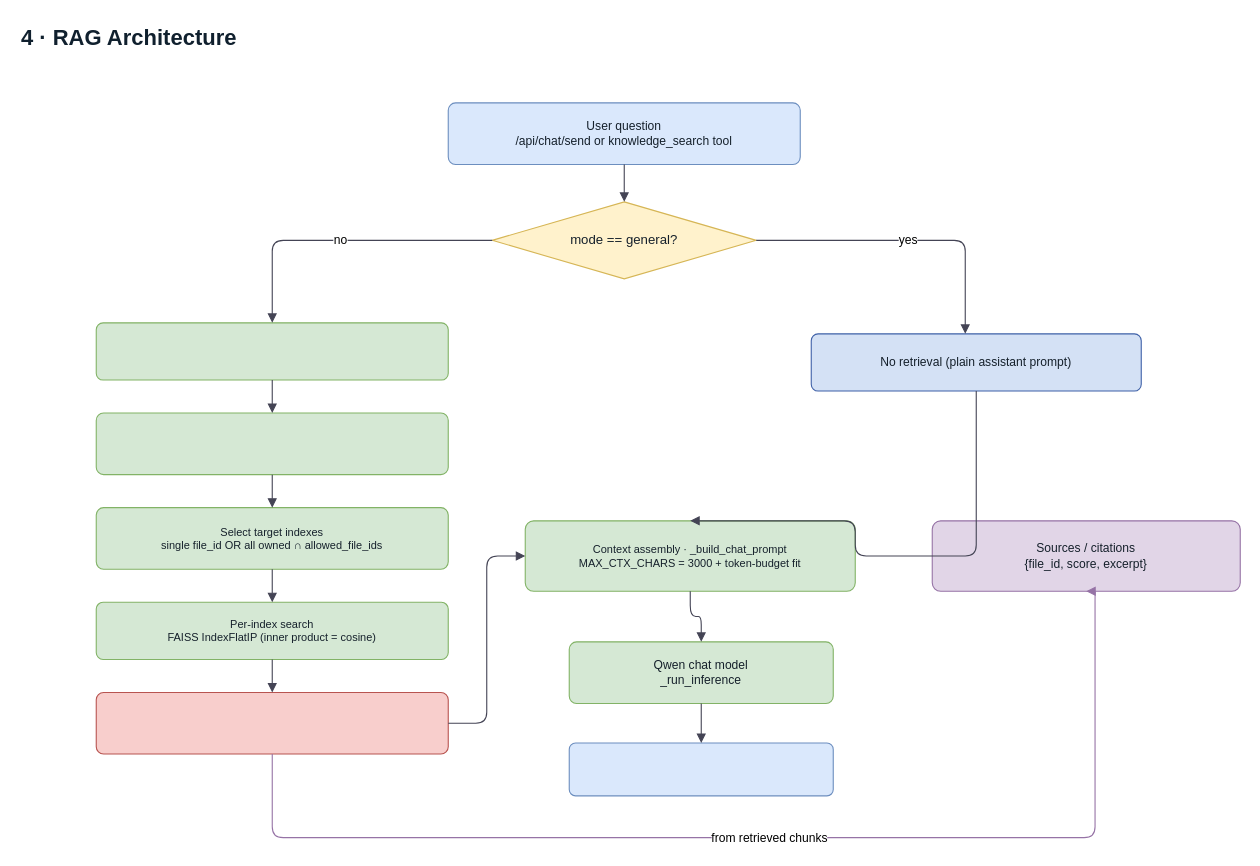
Some shapes in this 1260 by 866 pixel diagram are drawn without their labels. Each missing label, with the centre of its shape:
"Answer" belongs at point 700,769.
"EmbeddingEngine.embed(query) SBERT → Hashing fallback · L2-normalized" belongs at point 271,443.
"retrieve_chunks(query, file_id?, allowed_file_ids)" belongs at point 271,351.
"Union + sort by score + top_k = 5 NO threshold · NO reranker" belongs at point 271,722.
